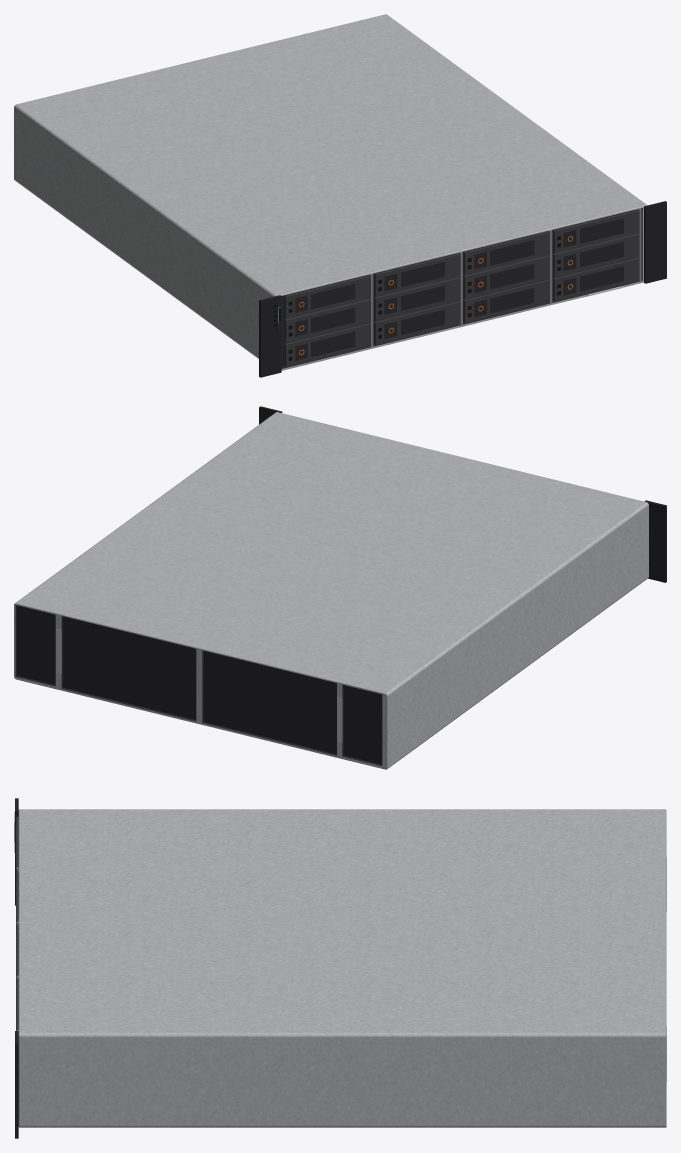
Rendered from MD2412.far.glb.
The picture shows the model from 3 angles, top to bottom: view 1: azimuth 30°, elevation 25°; view 2: azimuth 150°, elevation 25°; view 3: azimuth 270°, elevation 25°; orthographic projection. The views are drawn at different scales.
Parts seen in each view (by area): view 1: Drives_far; view 2: Drives_far, empty:EMM1, empty:EMM2, empty:PSU A, empty:PSU B; view 3: Drives_far.
Boxes of the visible parts, box(x1,y1,x2,y2) form: Drives_far: box(14, 14, 666, 377); Drives_far: box(14, 406, 666, 769); empty:EMM1: box(63, 616, 196, 719); empty:EMM2: box(204, 651, 336, 754); empty:PSU A: box(344, 685, 382, 764); empty:PSU B: box(17, 605, 55, 684); Drives_far: box(14, 798, 666, 1138).
Size of the model in its own units: 0.4826 by 0.0868 by 0.5421.
3 materials, 2 textured.
